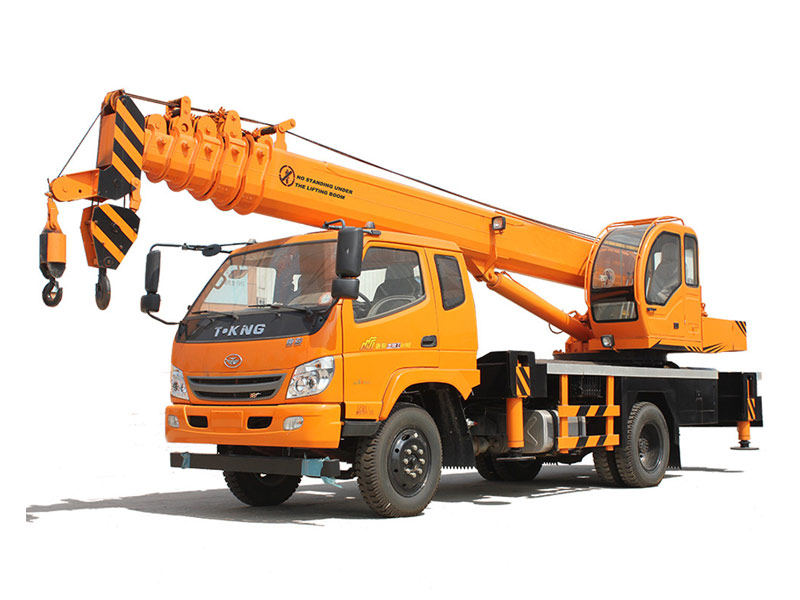crane: (32, 82, 775, 523)
